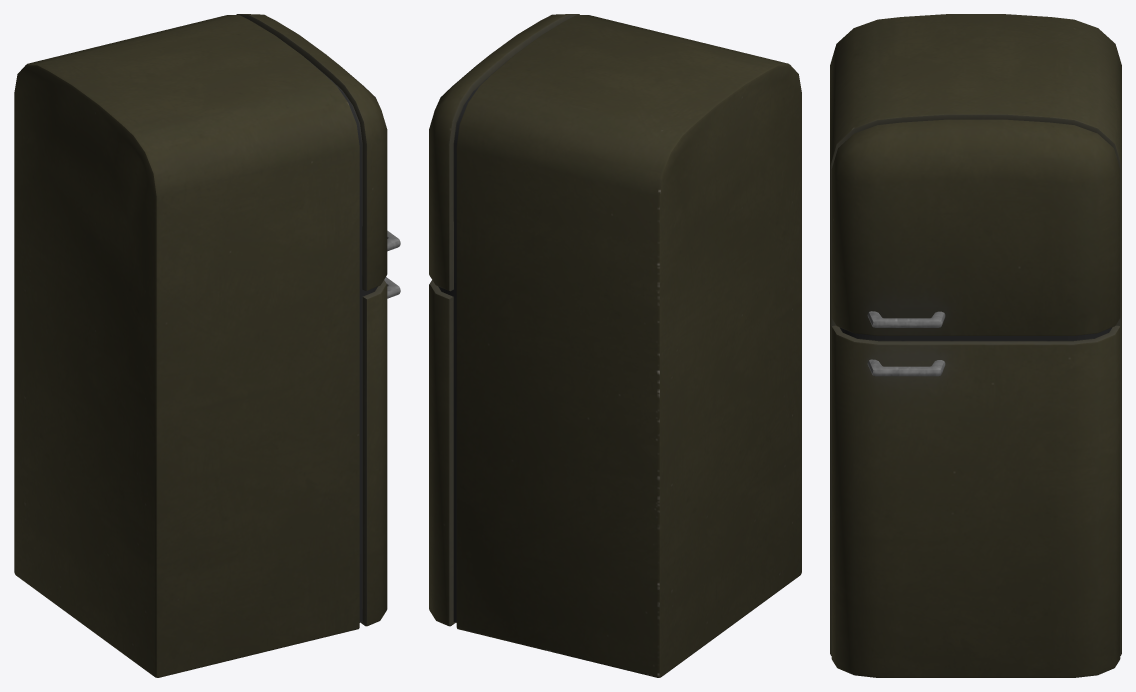
File: Freezer3fbx.fbx
3 renders of one model, left to right at view 1: azimuth 30°, elevation 25°; view 2: azimuth 150°, elevation 25°; view 3: azimuth 270°, elevation 25°, orthographic.
Visible parts, largest first — view 1: Freezer, Frezer_Door, Frezer_Door.001; view 2: Freezer, Frezer_Door, Frezer_Door.001; view 3: Frezer_Door, Frezer_Door.001, Freezer, Frezer_Door.003, Frezer_Door.002.
Boxes of the visible parts, <box> form: Freezer: <box>14,15,377,677</box>; Frezer_Door: <box>361,280,387,626</box>; Frezer_Door.001: <box>236,14,387,290</box>; Freezer: <box>438,15,801,677</box>; Frezer_Door: <box>429,280,455,626</box>; Frezer_Door.001: <box>429,14,579,291</box>; Frezer_Door: <box>831,325,1120,677</box>; Frezer_Door.001: <box>831,119,1120,335</box>; Freezer: <box>830,14,1121,655</box>; Frezer_Door.003: <box>867,359,945,376</box>; Frezer_Door.002: <box>867,311,945,327</box>.
Bounding box in the file's own units: 215 × 411 × 200.
